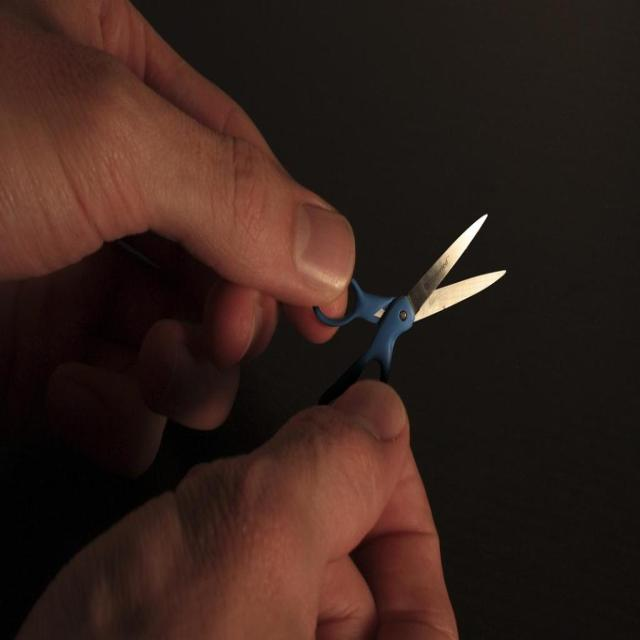scissors: (312, 212, 506, 406)
